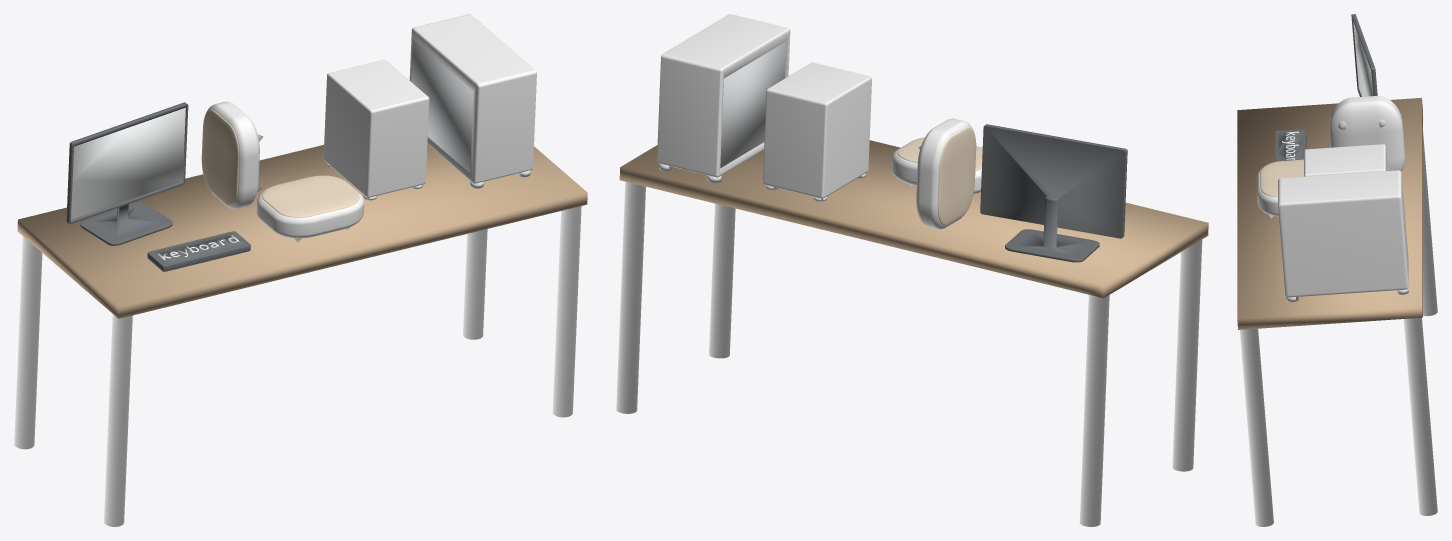
Rendered from kate_pc_size_ref.glb.
3 views of the same model, side by side, from view 1: azimuth 30°, elevation 25°; view 2: azimuth 150°, elevation 25°; view 3: azimuth 270°, elevation 25° (orthographic). The views are drawn at different scales.
Parts seen in each view (by area): view 1: kate-pc-size-ref; view 2: kate-pc-size-ref; view 3: kate-pc-size-ref.
Boxes of the visible parts, x1,y1,x2,y2 form: kate-pc-size-ref: [14, 14, 587, 526]; kate-pc-size-ref: [616, 14, 1208, 526]; kate-pc-size-ref: [1237, 14, 1437, 526].
Bounding box in the file's own units: 800 × 571 × 325.
